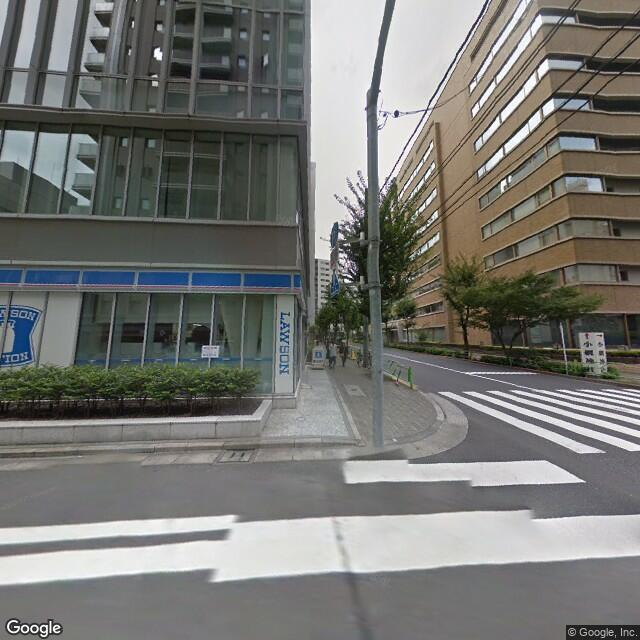lawson: (1, 260, 310, 302), (1, 296, 51, 370), (276, 302, 292, 386)
